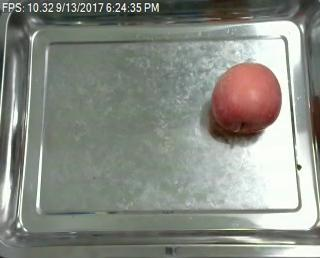apple: (211, 62, 283, 134)
